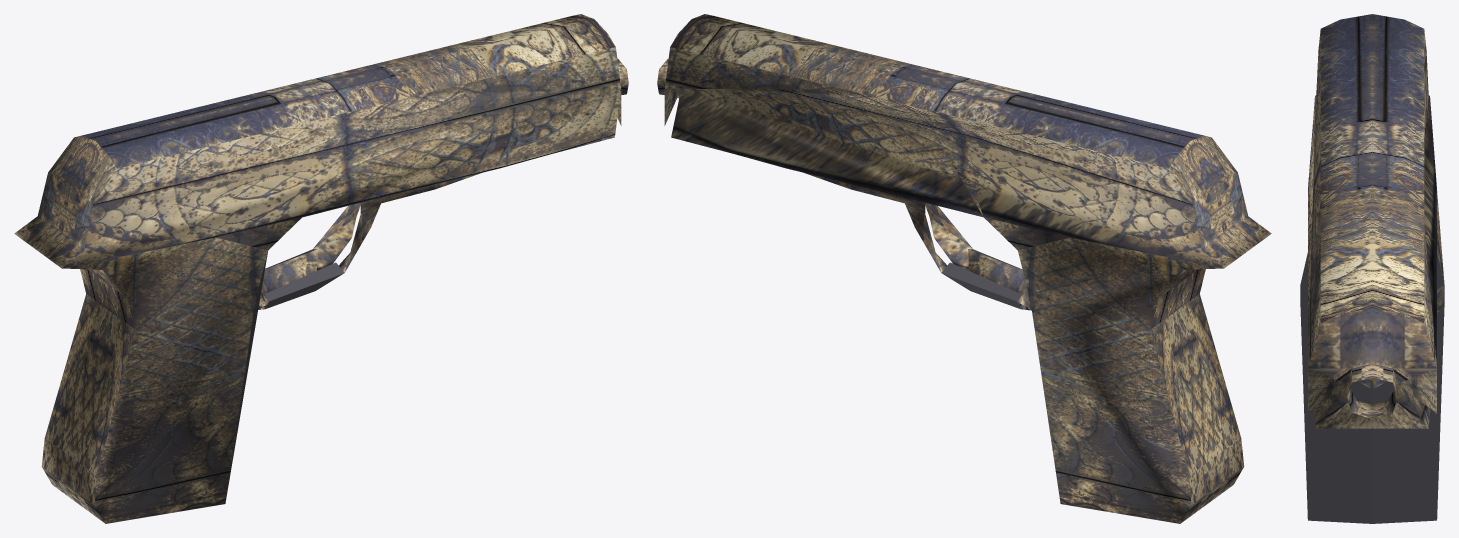
File: pistol.fbx
3 views of the same model, side by side, from view 1: azimuth 30°, elevation 25°; view 2: azimuth 150°, elevation 25°; view 3: azimuth 270°, elevation 25° (orthographic). The views are drawn at different scales.
Visible parts, largest first — view 1: Cube; view 2: Cube; view 3: Cube.
Part boxes in pixels (x1,y1,x2,y2): Cube: (14,14,628,523); Cube: (657,14,1271,523); Cube: (1300,14,1444,523).
Bounding box in the file's own units: 1254 × 761 × 223.
